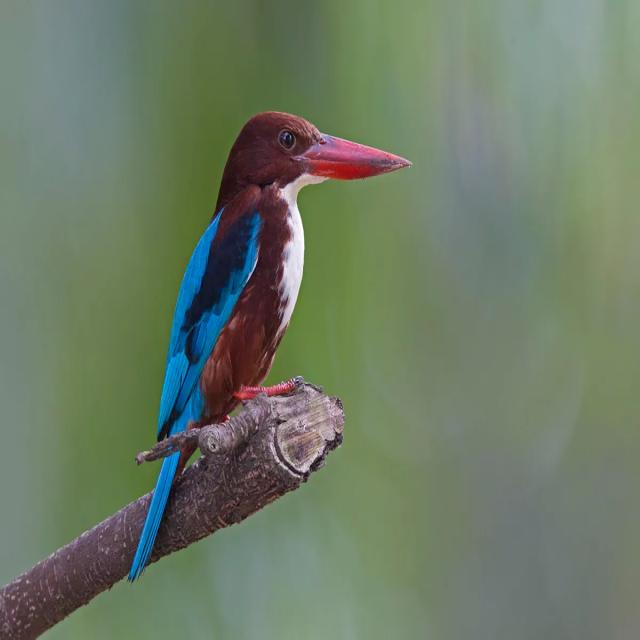kingfisher: (102, 80, 427, 596)
